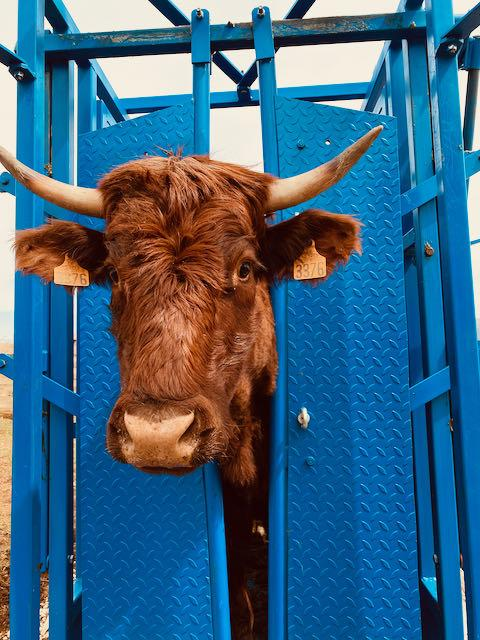muzzles: (95, 396, 233, 479)
